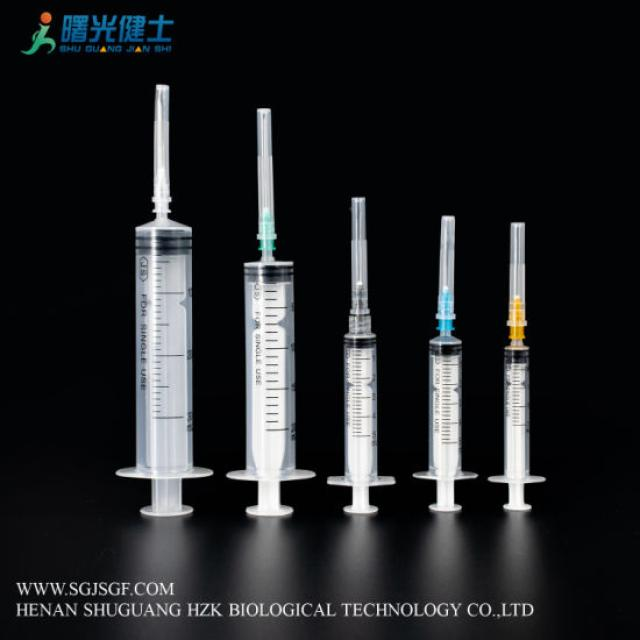B3: (93, 66, 220, 542), (218, 91, 324, 535), (318, 179, 400, 538), (404, 197, 478, 535), (480, 213, 550, 533)
